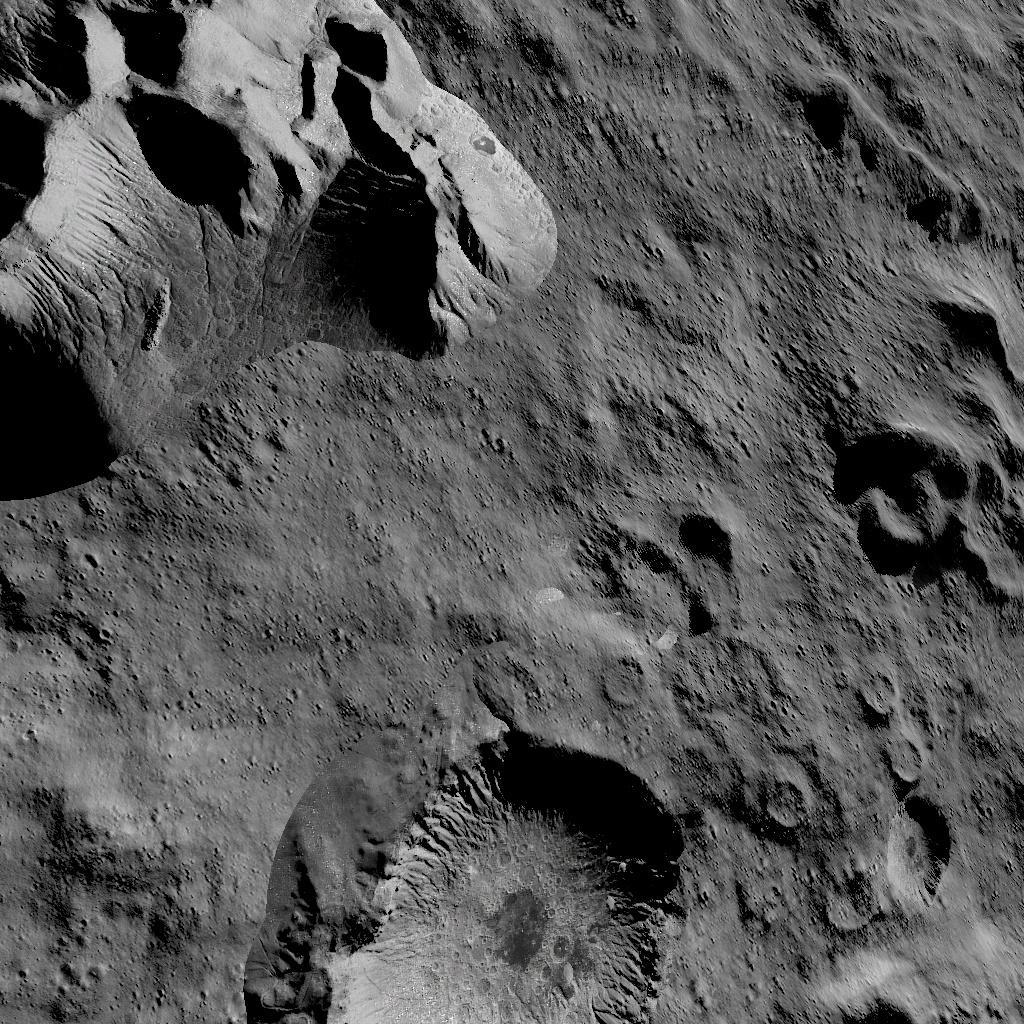Boulders: (0, 0, 560, 505)
Crater: (266, 726, 718, 1024), (831, 420, 1024, 604), (670, 510, 752, 638), (884, 802, 968, 918), (820, 873, 878, 940), (880, 734, 941, 795), (852, 663, 916, 721), (596, 651, 660, 708), (760, 774, 814, 838)
Plan surface: (0, 530, 256, 1024), (573, 152, 941, 398), (270, 522, 542, 712)
